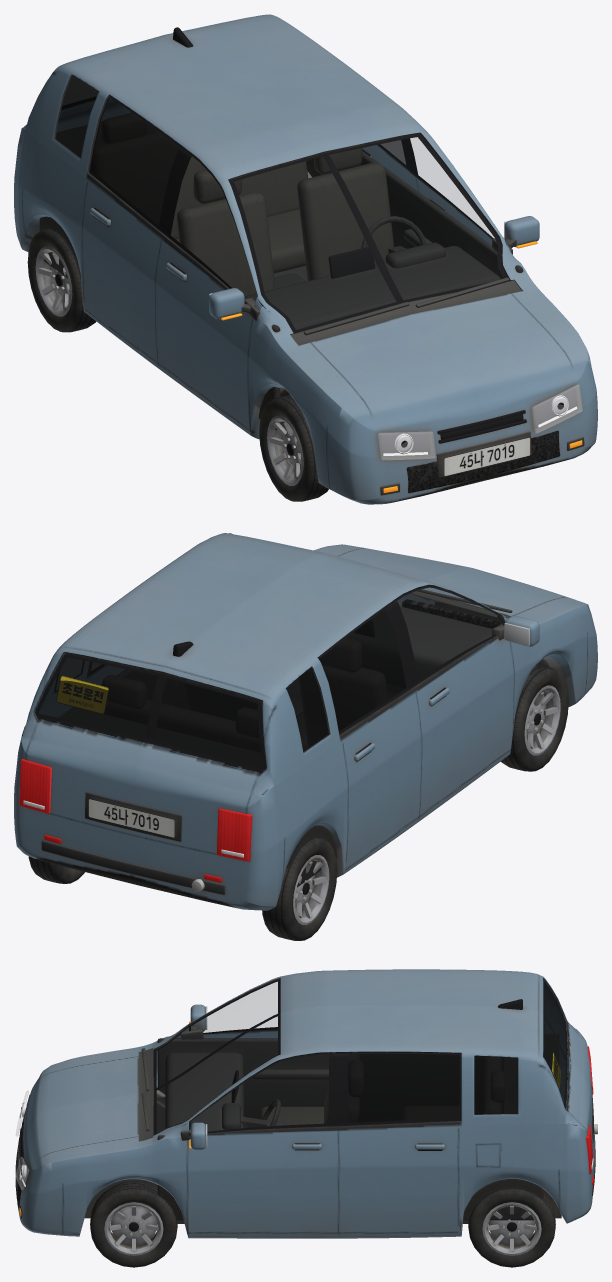
Rendered from CarHatch.fbx.
3 renders of one model, top to bottom at view 1: azimuth 30°, elevation 25°; view 2: azimuth 150°, elevation 25°; view 3: azimuth 270°, elevation 25°, orthographic. The views are drawn at different scales.
Visible parts, largest first — view 1: CarHatch_Body, CarHatch_Interior, CarHatch_Wheel_FL, CarHatch_Wheel_RL, CarHatch_PlateFront; view 2: CarHatch_Body, CarHatch_Interior, CarHatch_Wheel_RL, CarHatch_Wheel_FL, CarHatch_PlateRear, CarHatch_Sticker_Beginner, CarHatch_Wheel_RR; view 3: CarHatch_Body, CarHatch_Interior, CarHatch_Wheel_FR, CarHatch_Wheel_RR.
Boxes of the visible parts, left/top/right/bottom form: CarHatch_Body: left=14, top=14, right=597, bottom=504; CarHatch_Interior: left=39, top=113, right=523, bottom=429; CarHatch_Wheel_FL: left=259, top=394, right=328, bottom=501; CarHatch_Wheel_RL: left=27, top=228, right=96, bottom=332; CarHatch_PlateFront: left=444, top=437, right=530, bottom=476; CarHatch_Body: left=14, top=533, right=597, bottom=910; CarHatch_Interior: left=60, top=606, right=523, bottom=887; CarHatch_Wheel_RL: left=262, top=837, right=337, bottom=940; CarHatch_Wheel_FL: left=500, top=664, right=568, bottom=771; CarHatch_PlateRear: left=88, top=798, right=174, bottom=837; CarHatch_Sticker_Beginner: left=56, top=675, right=108, bottom=713; CarHatch_Wheel_RR: left=28, top=856, right=84, bottom=883; CarHatch_Body: left=15, top=969, right=597, bottom=1238; CarHatch_Interior: left=157, top=1034, right=558, bottom=1223; CarHatch_Wheel_FR: left=90, top=1181, right=177, bottom=1267; CarHatch_Wheel_RR: left=468, top=1188, right=555, bottom=1267.
Size of the model in its own units: 1.95 by 1.53 by 3.71.
